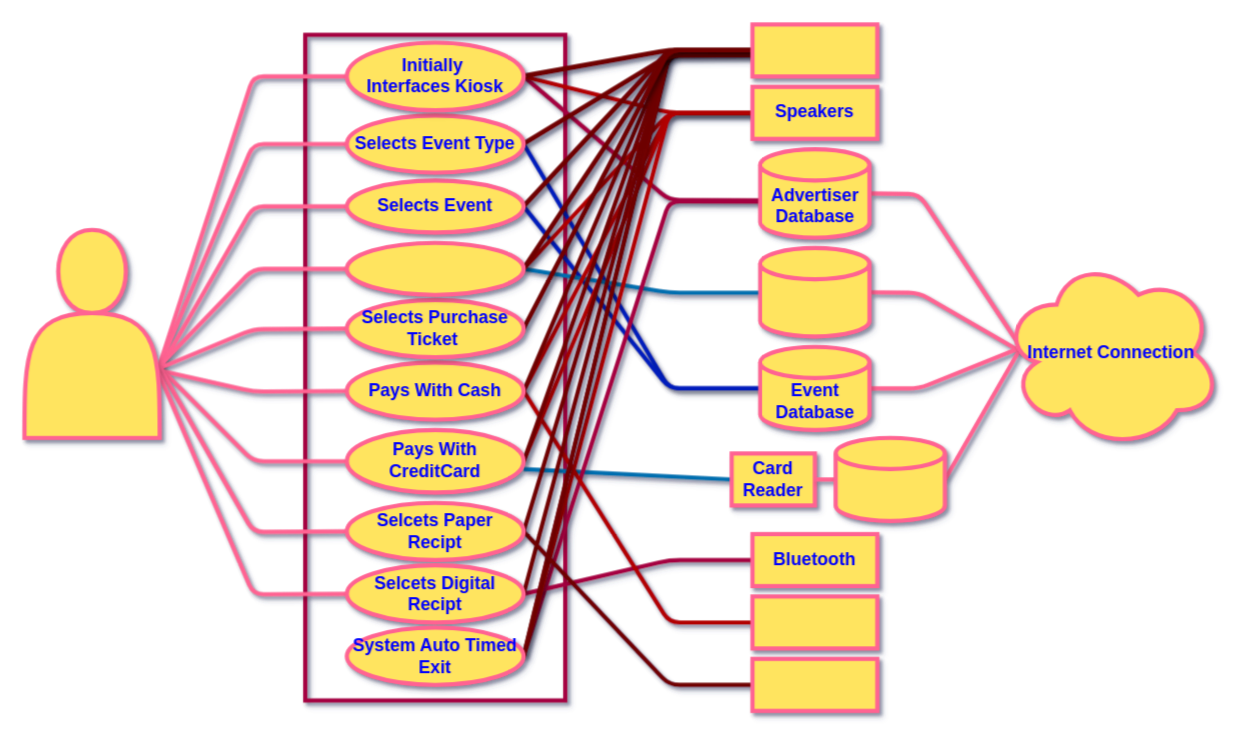
Some shapes in this 1252 by 744 pixel diagram are drawn without their labels. Here are the shapes that lost their labels. From the top down, the centre of each, then its label:
the point at 815,51: LCD Screen
the point at 435,270: Selects Media Preview
the point at 815,293: Media Database
the point at 92,335: User
the point at 891,480: CreditCard Database
the point at 815,623: Cash Exchanger
the point at 815,686: Printer
